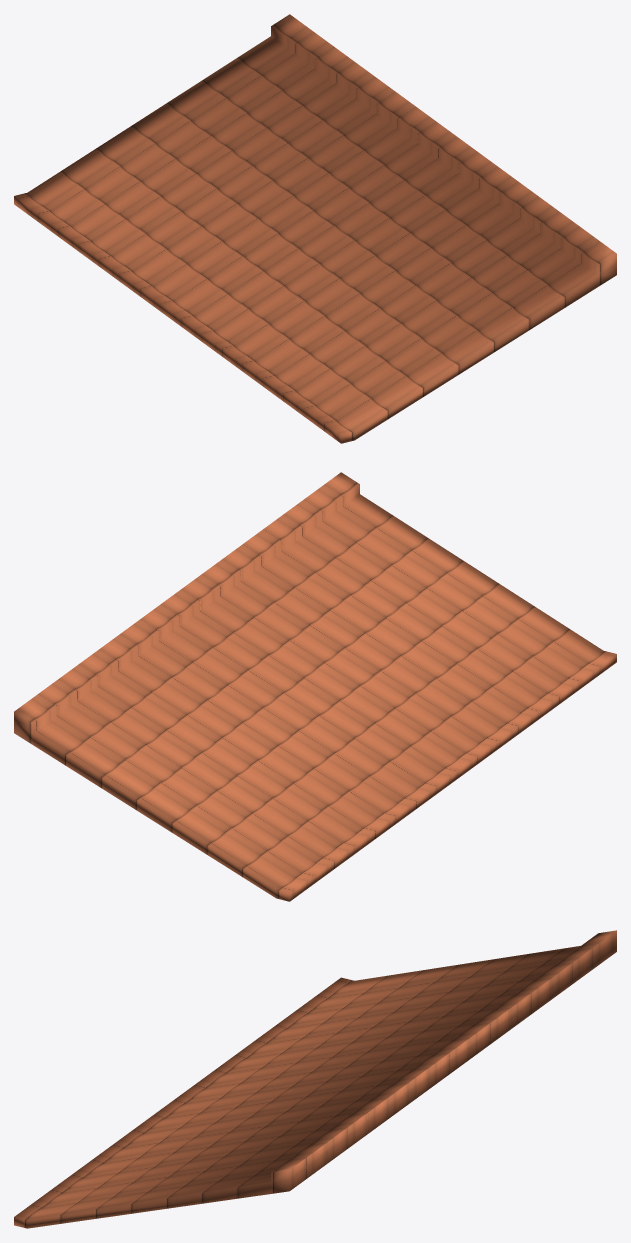
Rendered from Roof_half.gltf.
3 renders of one model, top to bottom at view 1: azimuth 30°, elevation 25°; view 2: azimuth 150°, elevation 25°; view 3: azimuth 330°, elevation 25°, orthographic.
Visible parts, largest first — view 1: Cube.020; view 2: Cube.020; view 3: Cube.020.
Part boxes in pixels (x1=…): Cube.020: x1=14, y1=14, x2=616, y2=443; Cube.020: x1=14, y1=472, x2=616, y2=901; Cube.020: x1=14, y1=930, x2=616, y2=1228.
Size of the model in its own units: 7.57 by 3.22 by 15.55.
Materials: 1 (1 with a texture image).
